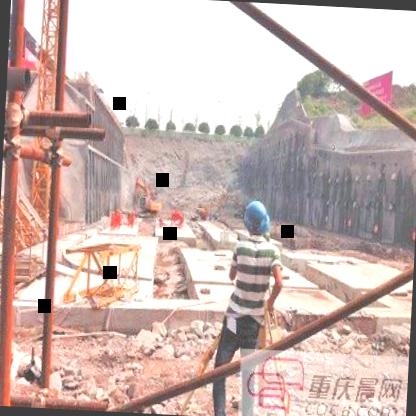helmet: (240, 197, 272, 240)
